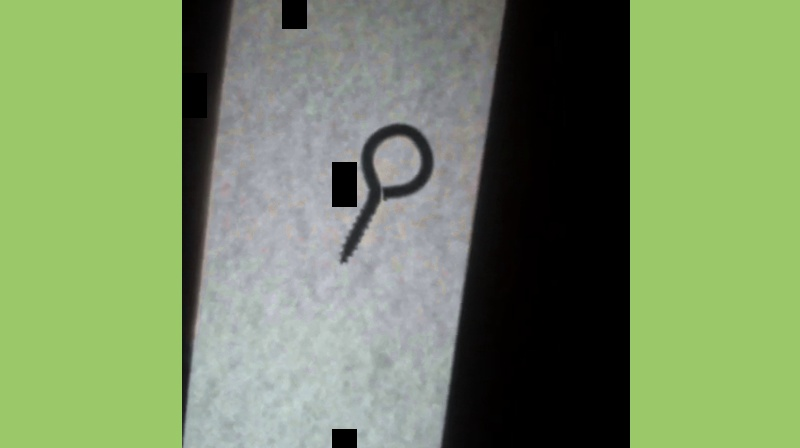O001: (336, 116, 440, 266)
